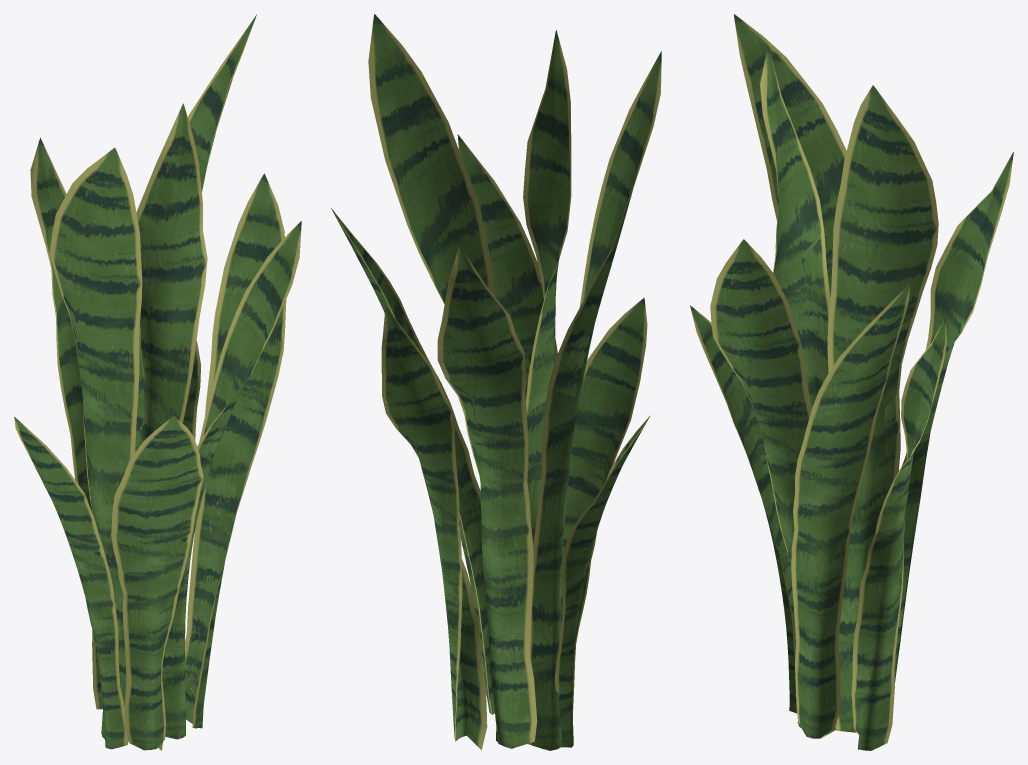
File: SM_snakePlant.FBX
3 renders of one model, left to right at view 1: azimuth 30°, elevation 25°; view 2: azimuth 150°, elevation 25°; view 3: azimuth 270°, elevation 25°, orthographic. The views are drawn at different scales.
Visible parts, largest first — view 1: SM_snakePlant; view 2: SM_snakePlant; view 3: SM_snakePlant.
Part boxes in pixels (left/top/right/bottom): SM_snakePlant: left=14, top=14, right=301, bottom=750; SM_snakePlant: left=330, top=14, right=661, bottom=750; SM_snakePlant: left=690, top=14, right=1013, bottom=750.
Size of the model in its own units: 28.66 by 27.49 by 67.
